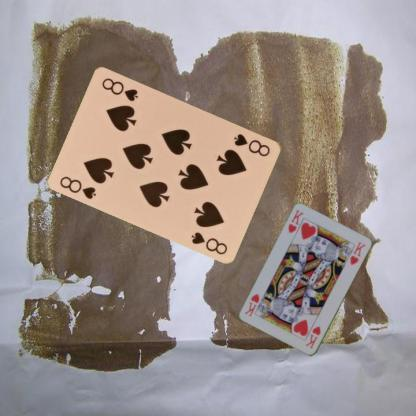8s: (232, 130, 272, 158), (58, 174, 98, 200)
Kh: (285, 208, 305, 235), (303, 324, 322, 350)
